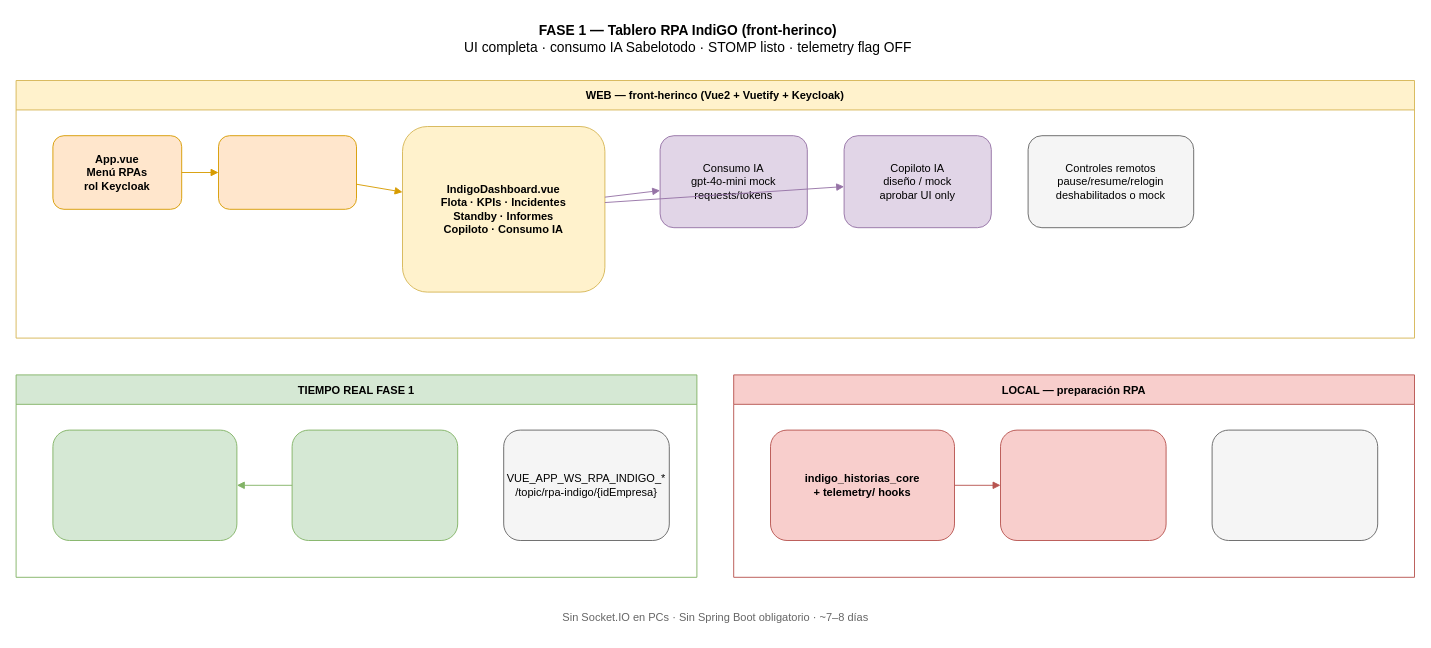
This 1431x648 diagram has some shape labels left out. Each missing label, with the centre of its shape:
PDFs locales ESE CSV + Telegram: (1294,484)
RPA.vue + SubMenu RPA IndiGO: (287,172)
rpaIndigoRealtime.js SockJS + Stomp (patrón Formulas.vue): (144,484)
Simulador mock 9 agentes · heartbeats incidentes · descargas: (374,484)
TELEMETRIA=0 start/notify/end listo · NO envía: (1083,484)
